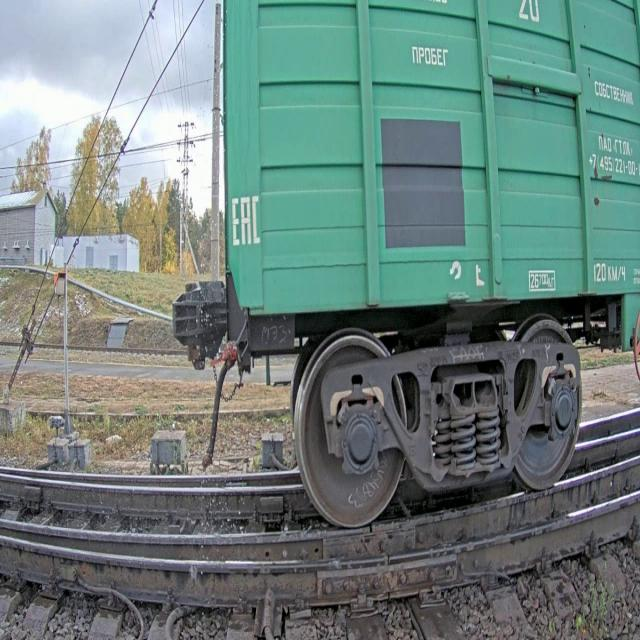gondola: (168, 0, 638, 536)
